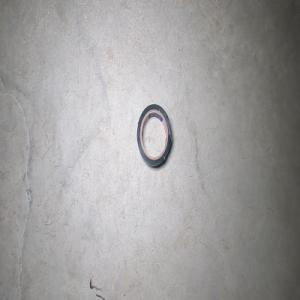Tape: (137, 103, 172, 167)
